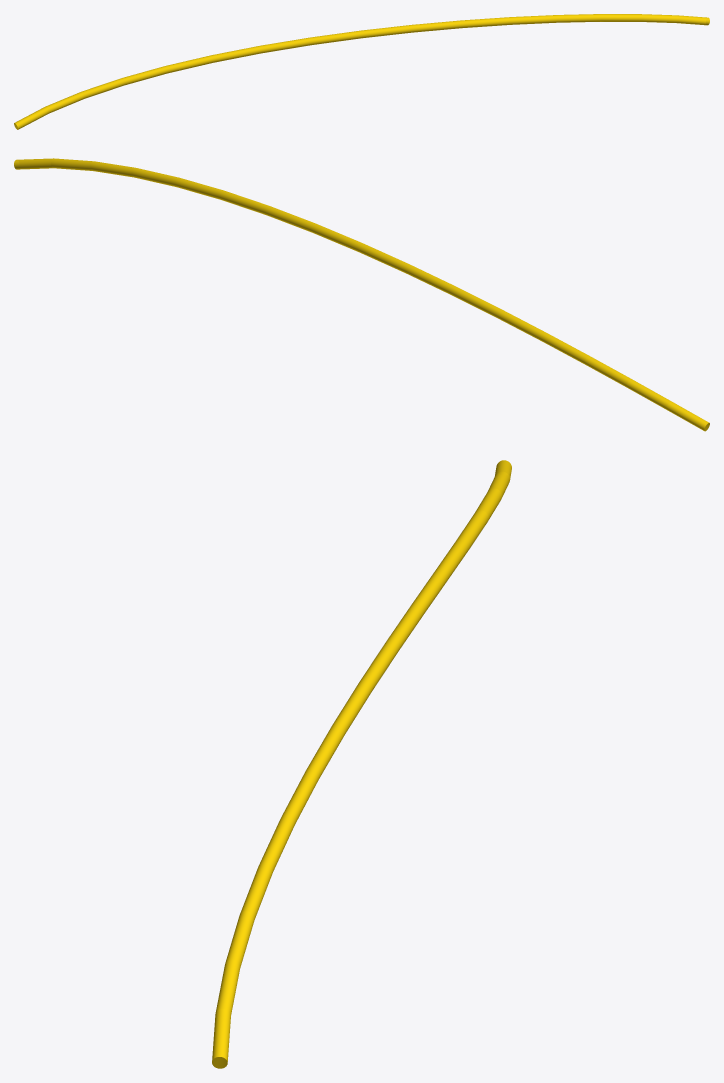
File: Event_421556567_track_24.fbx
The picture shows the model from 3 angles, top to bottom: view 1: azimuth 30°, elevation 25°; view 2: azimuth 150°, elevation 25°; view 3: azimuth 270°, elevation 25°; orthographic projection. The views are drawn at different scales.
Parts seen in each view (by area): view 1: Model; view 2: Model; view 3: Model.
Part boxes in pixels (x1,y1,x2,y2): Model: (14,14,709,129); Model: (14,158,709,431); Model: (212,460,511,1068).
Bounding box in the file's own units: 3.65 × 0.2726 × 0.7612.
